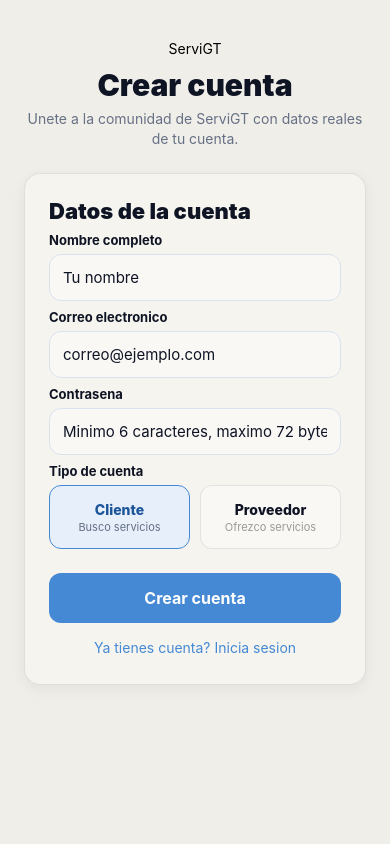
Test case: RegisterScreen politica de registro › rechaza localmente contrasenas menores a 6 caracteres
In the field with placeholder "Tu nombre": (195, 278) [49,254,341,301], type "Pablo Toledo"
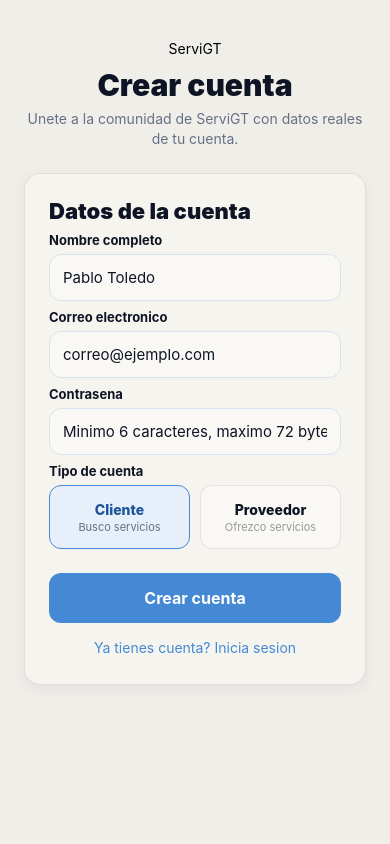
In the field with placeholder "correo@ejemplo.com": (195, 354) [49,331,341,378], type " Pablo@ServiGT.test "
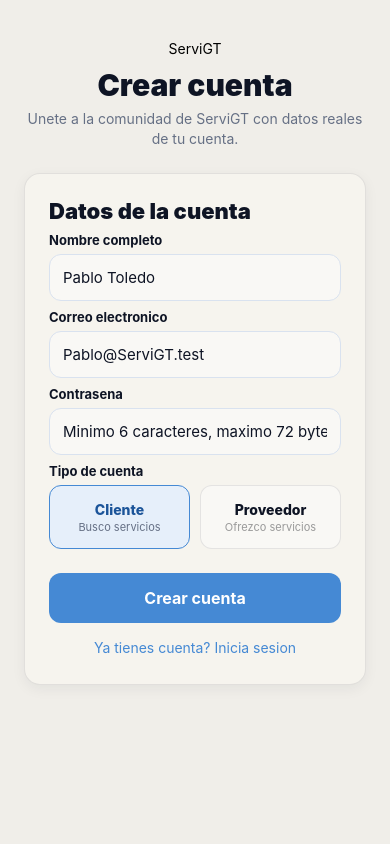
In the password field with placeholder "Minimo 6 caracteres, maximo 72 bytes": (195, 432) [49,408,341,455], type "12345"
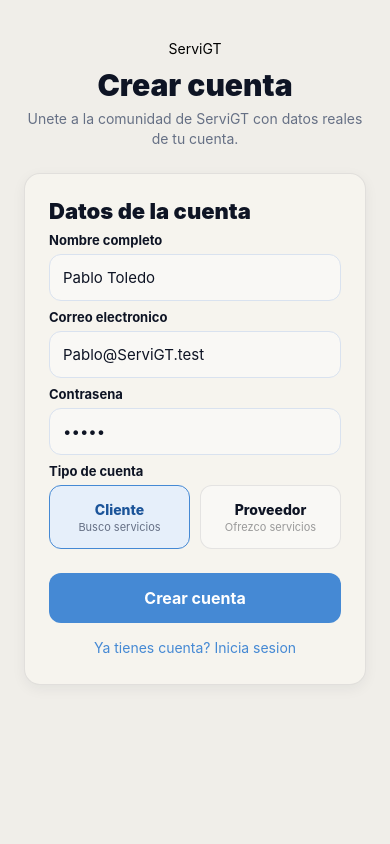
Click the button labelled "Crear cuenta": (195, 598) [49,573,341,623]
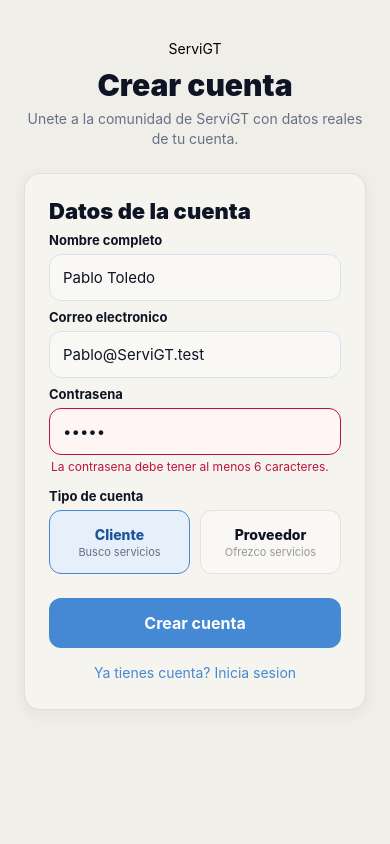
Check: the text "La contrasena debe tener al menos 6 caracteres." is shown, box [51,459,341,474]
